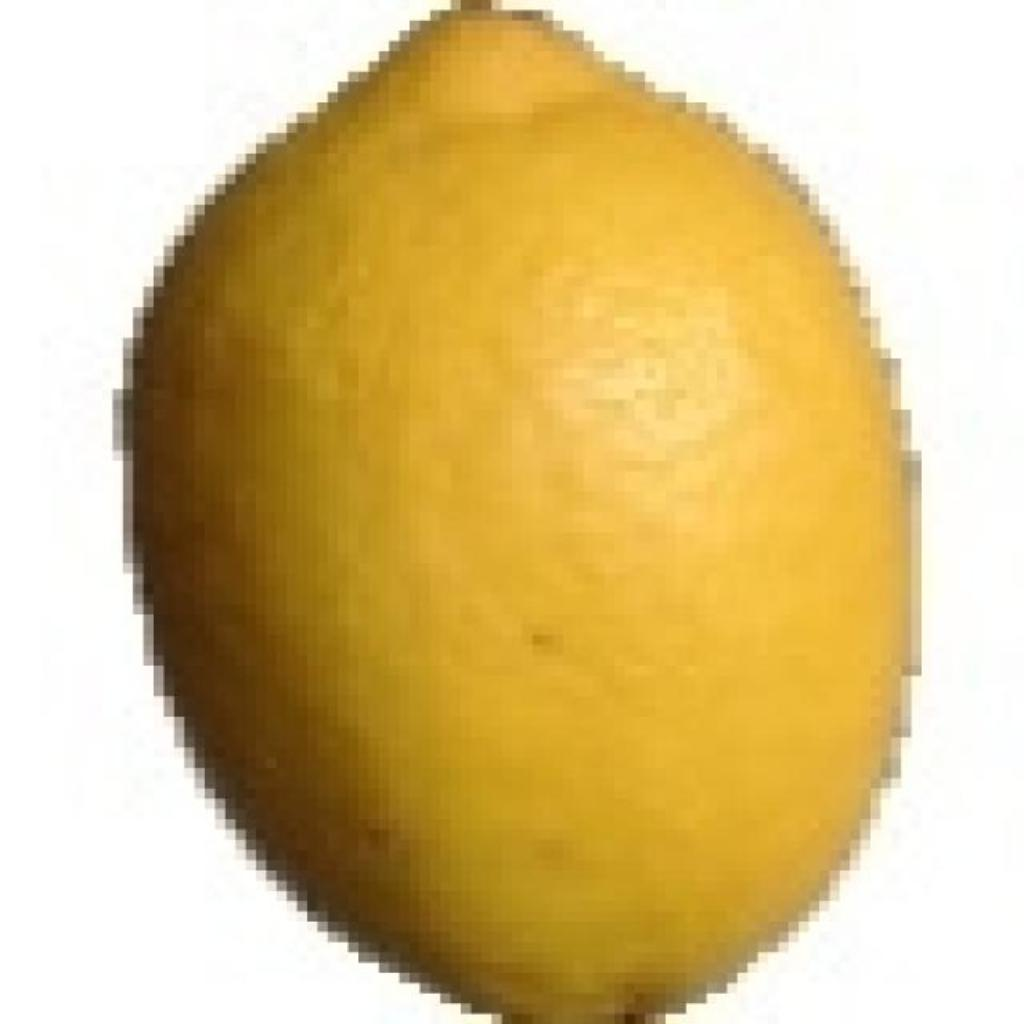lemon: (124, 0, 910, 1024)
